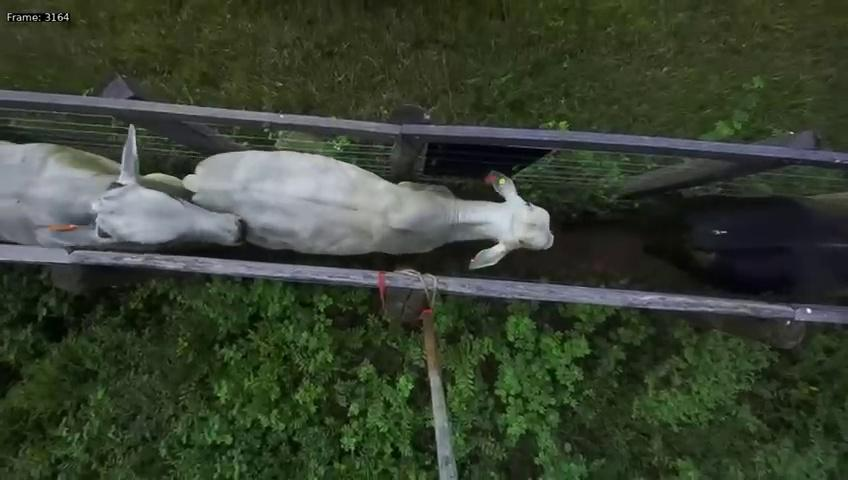cattle: (178, 129, 555, 272)
